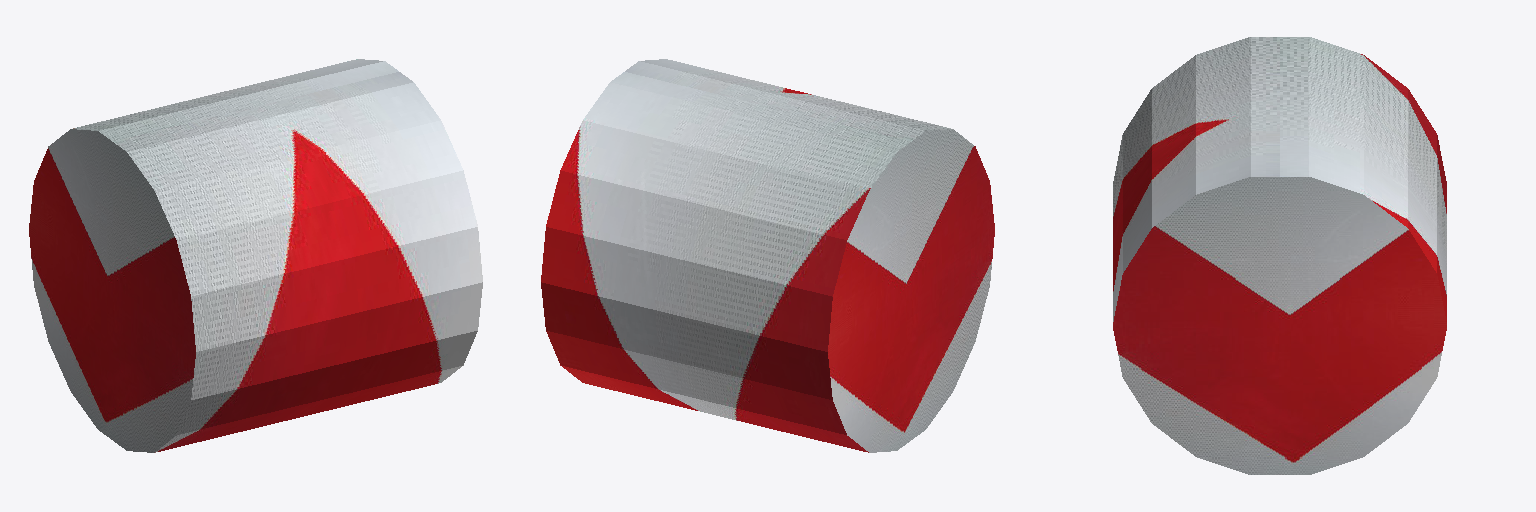
3 renders of one model, left to right at view 1: azimuth 30°, elevation 25°; view 2: azimuth 150°, elevation 25°; view 3: azimuth 270°, elevation 25°, orthographic.
Parts seen in each view (by area): view 1: Cylinder001; view 2: Cylinder001; view 3: Cylinder001.
Boxes of the visible parts, <box> form: Cylinder001: <box>29,59,482,452</box>; Cylinder001: <box>541,59,994,452</box>; Cylinder001: <box>1113,37,1446,474</box>.
Size of the model in its own units: 8.37 by 8.33 by 8.46.
Materials: 1 (1 with a texture image).